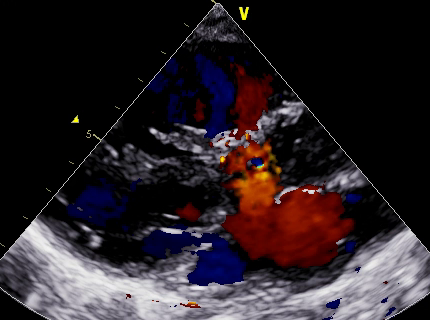AR: (205, 140, 296, 220)
